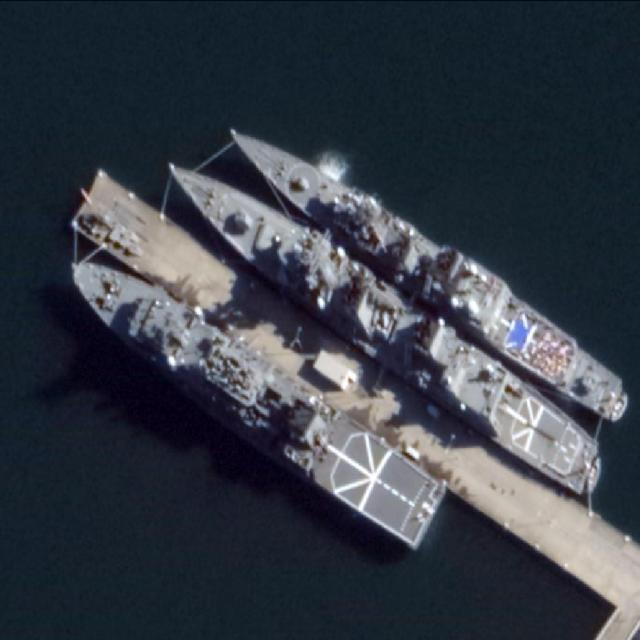Auxiliary Ships: (47, 238, 456, 552)
Destroyer: (137, 137, 620, 504), (209, 103, 630, 423)
